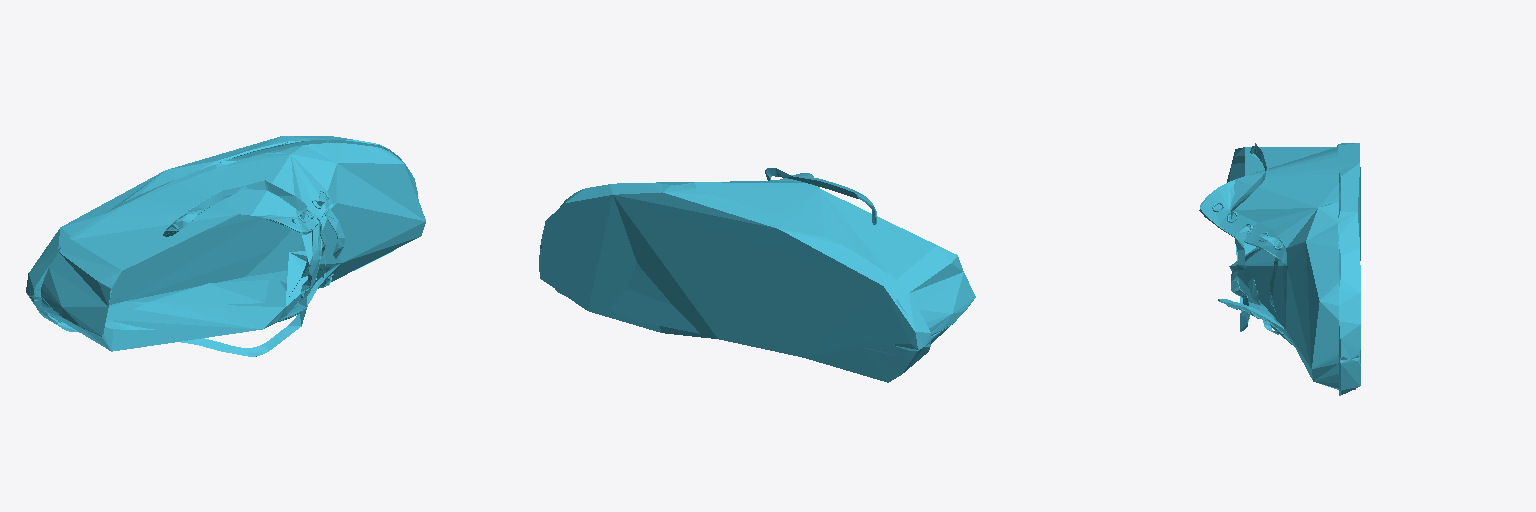
The model's file is shoe.obj.
The picture shows the model from 3 angles: view 1: azimuth 30°, elevation 25°; view 2: azimuth 150°, elevation 25°; view 3: azimuth 270°, elevation 25°; orthographic projection.
Parts seen in each view (by area): view 1: shoe; view 2: shoe; view 3: shoe.
Part boxes in pixels (x1,y1,x2,y2): shoe: (26,136,425,356); shoe: (539,168,975,382); shoe: (1199,143,1360,395).
Bounding box in the file's own units: 229 × 92.57 × 82.77.